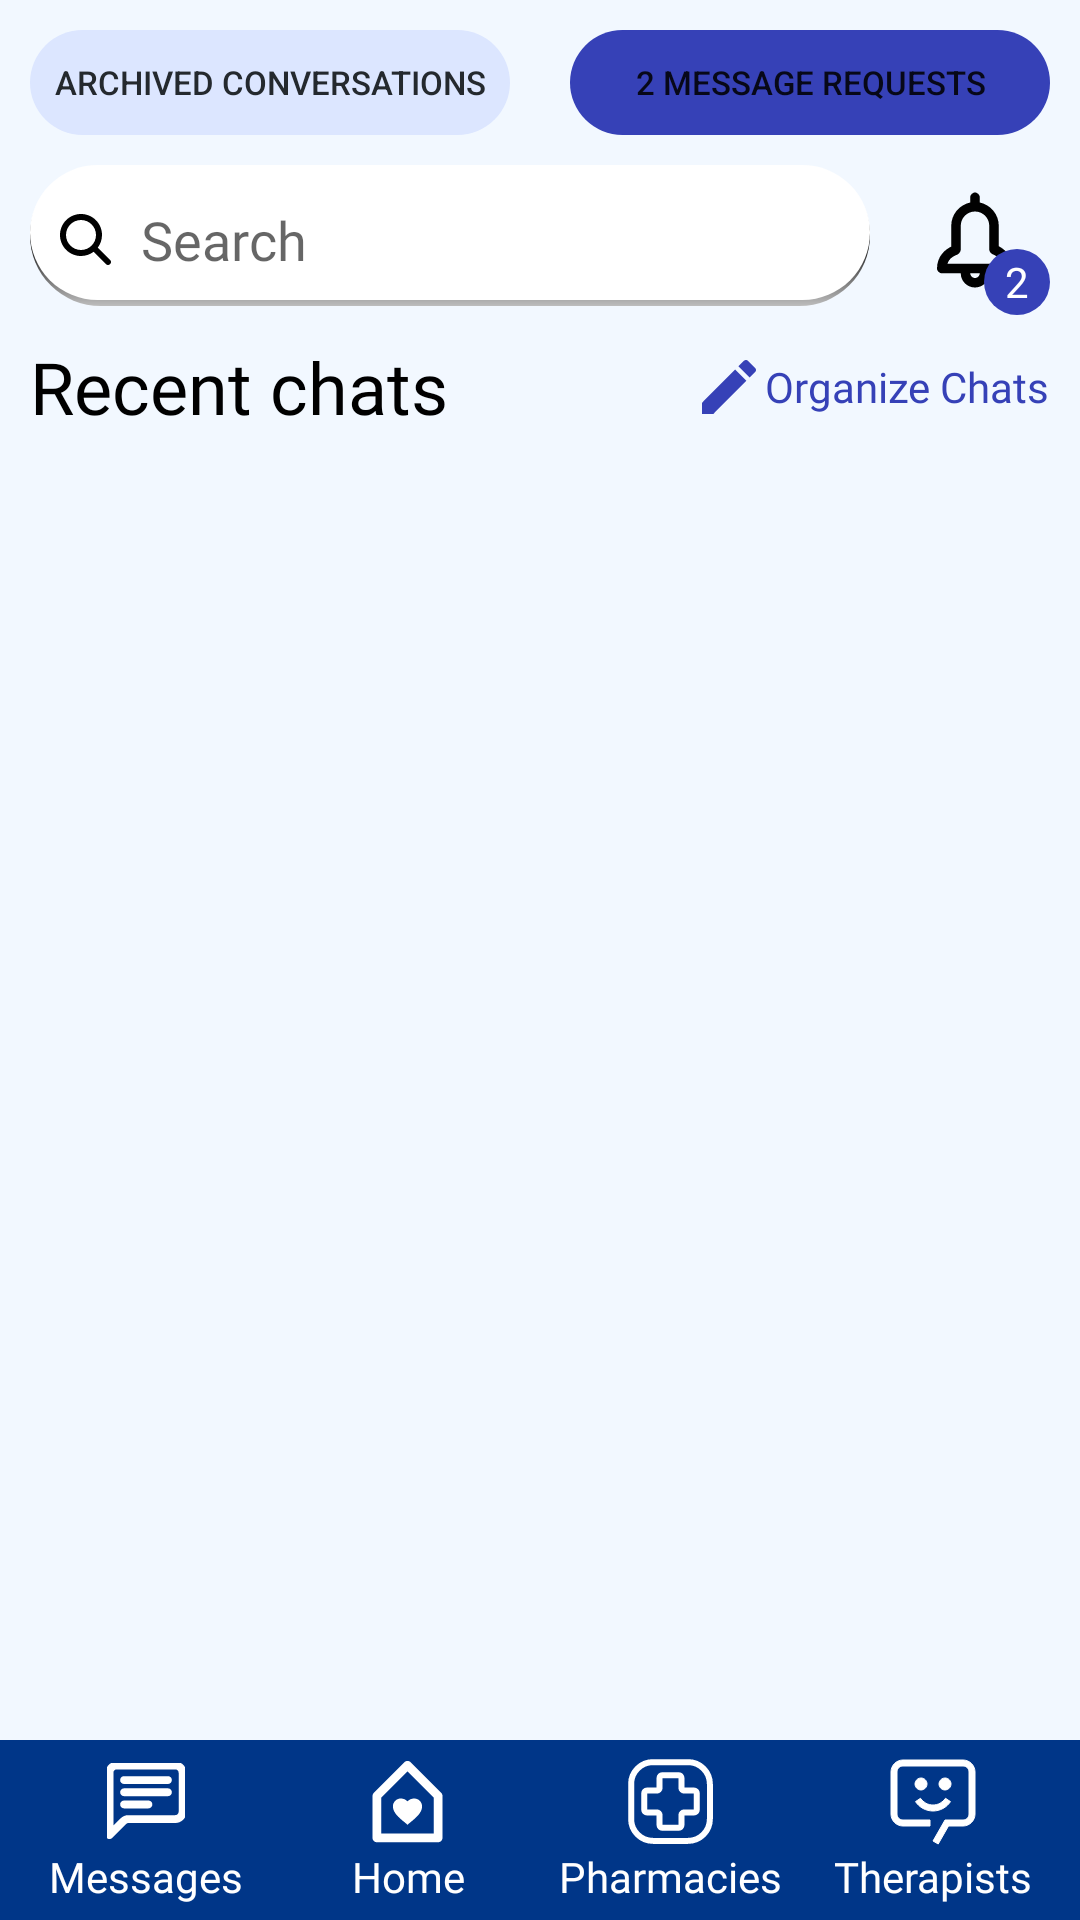

Locate icon controls on the screen. Image size 1080px x 1920px, boxes as (x1, y1, x2, y2).
notification: (937, 192, 1050, 315)
smile: (890, 1759, 976, 1845)
